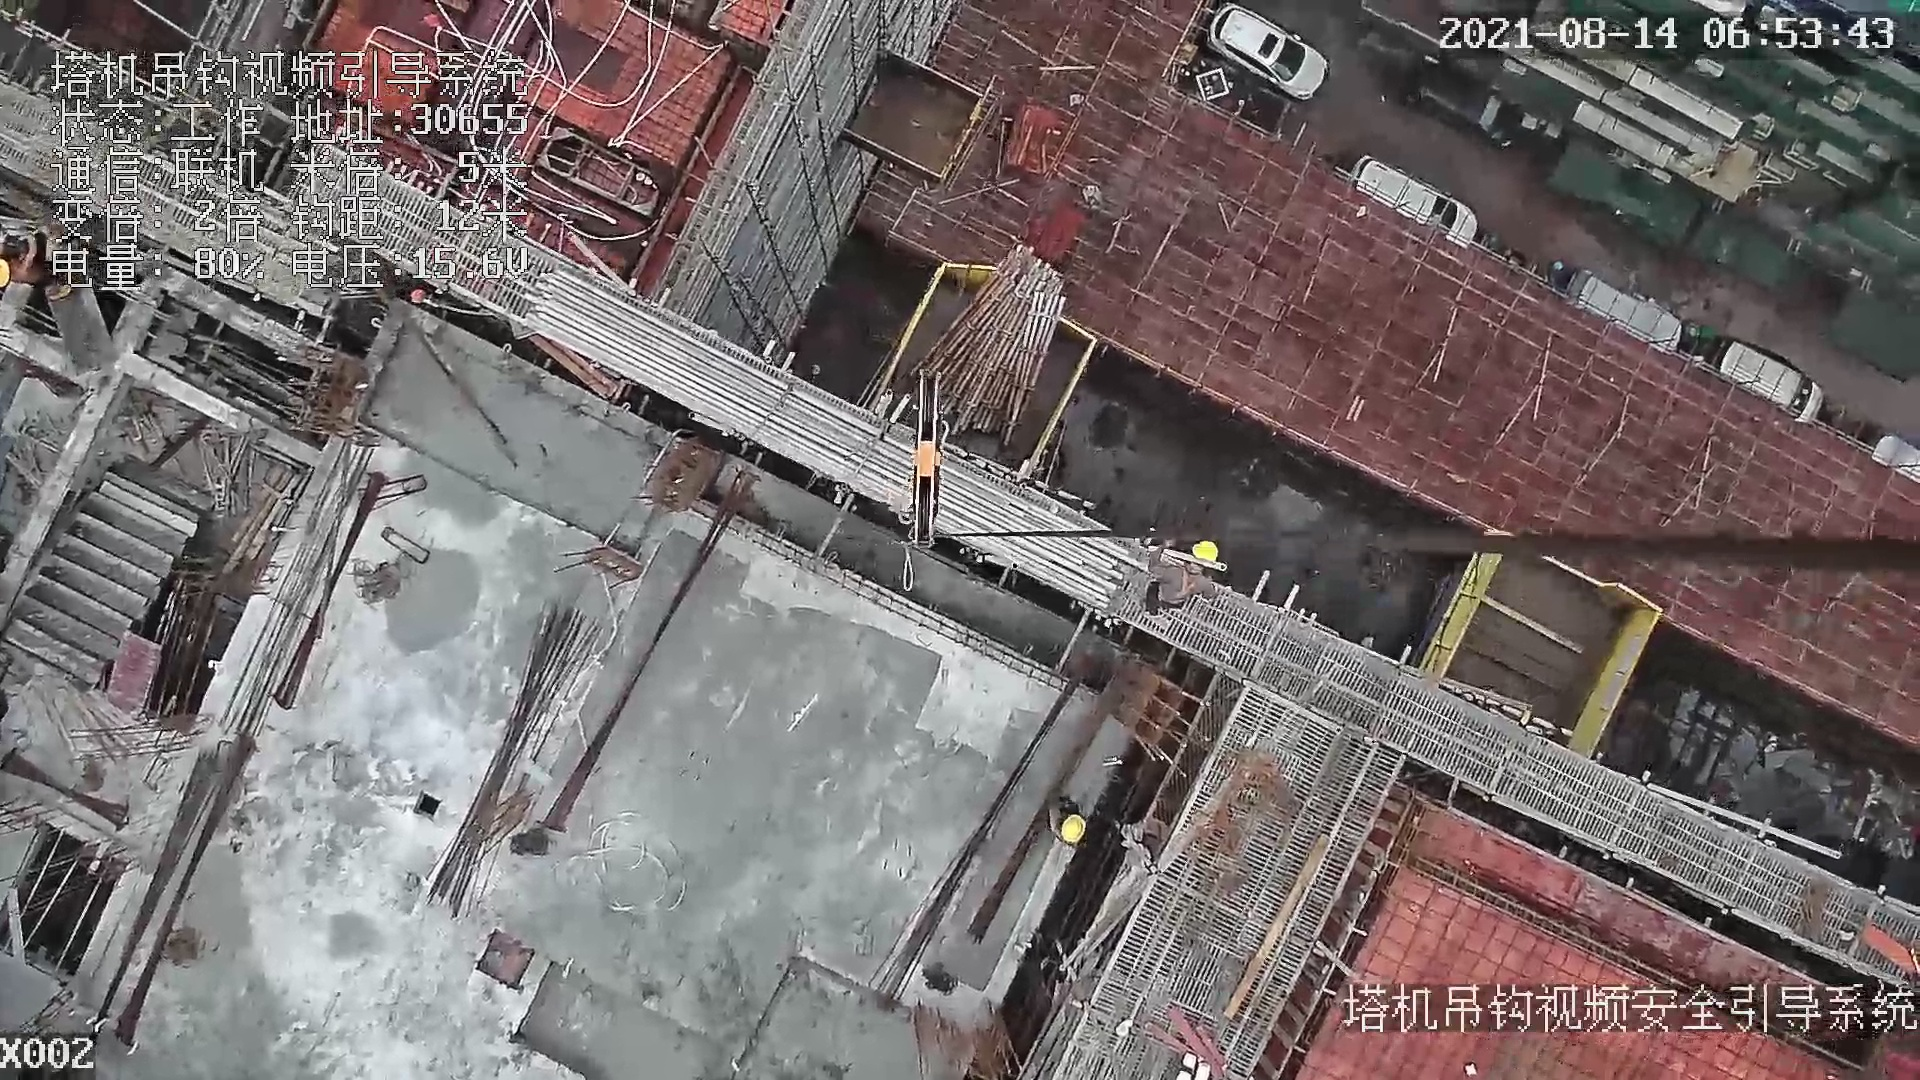helmet: (1060, 815, 1086, 843), (1190, 540, 1219, 562)
hook: (905, 368, 955, 559)
person: (1144, 541, 1231, 614), (1047, 795, 1100, 847)
rebar: (518, 273, 1128, 610), (427, 613, 605, 921)
scaffold: (910, 241, 1065, 447)
